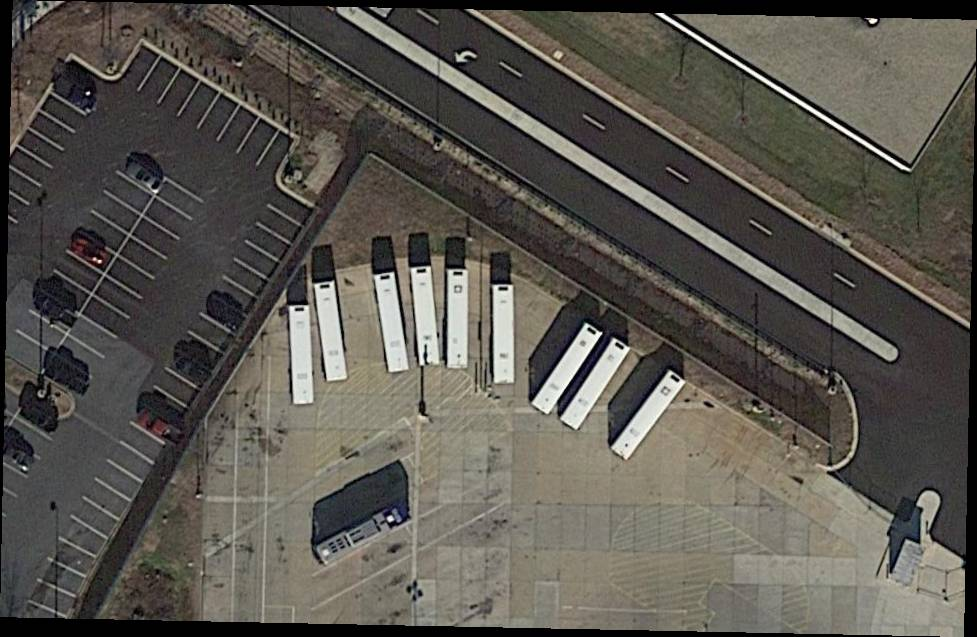large vehicle: (607, 369, 690, 465), (558, 335, 636, 435), (530, 322, 602, 418), (311, 507, 405, 568), (370, 269, 410, 377), (316, 281, 352, 383), (286, 301, 317, 407), (410, 265, 441, 367), (490, 284, 517, 386), (445, 270, 469, 369)
small vehicle: (27, 288, 81, 334), (48, 74, 101, 117), (199, 292, 248, 336), (132, 405, 181, 447), (66, 232, 114, 273), (168, 352, 214, 390), (122, 158, 167, 196)
